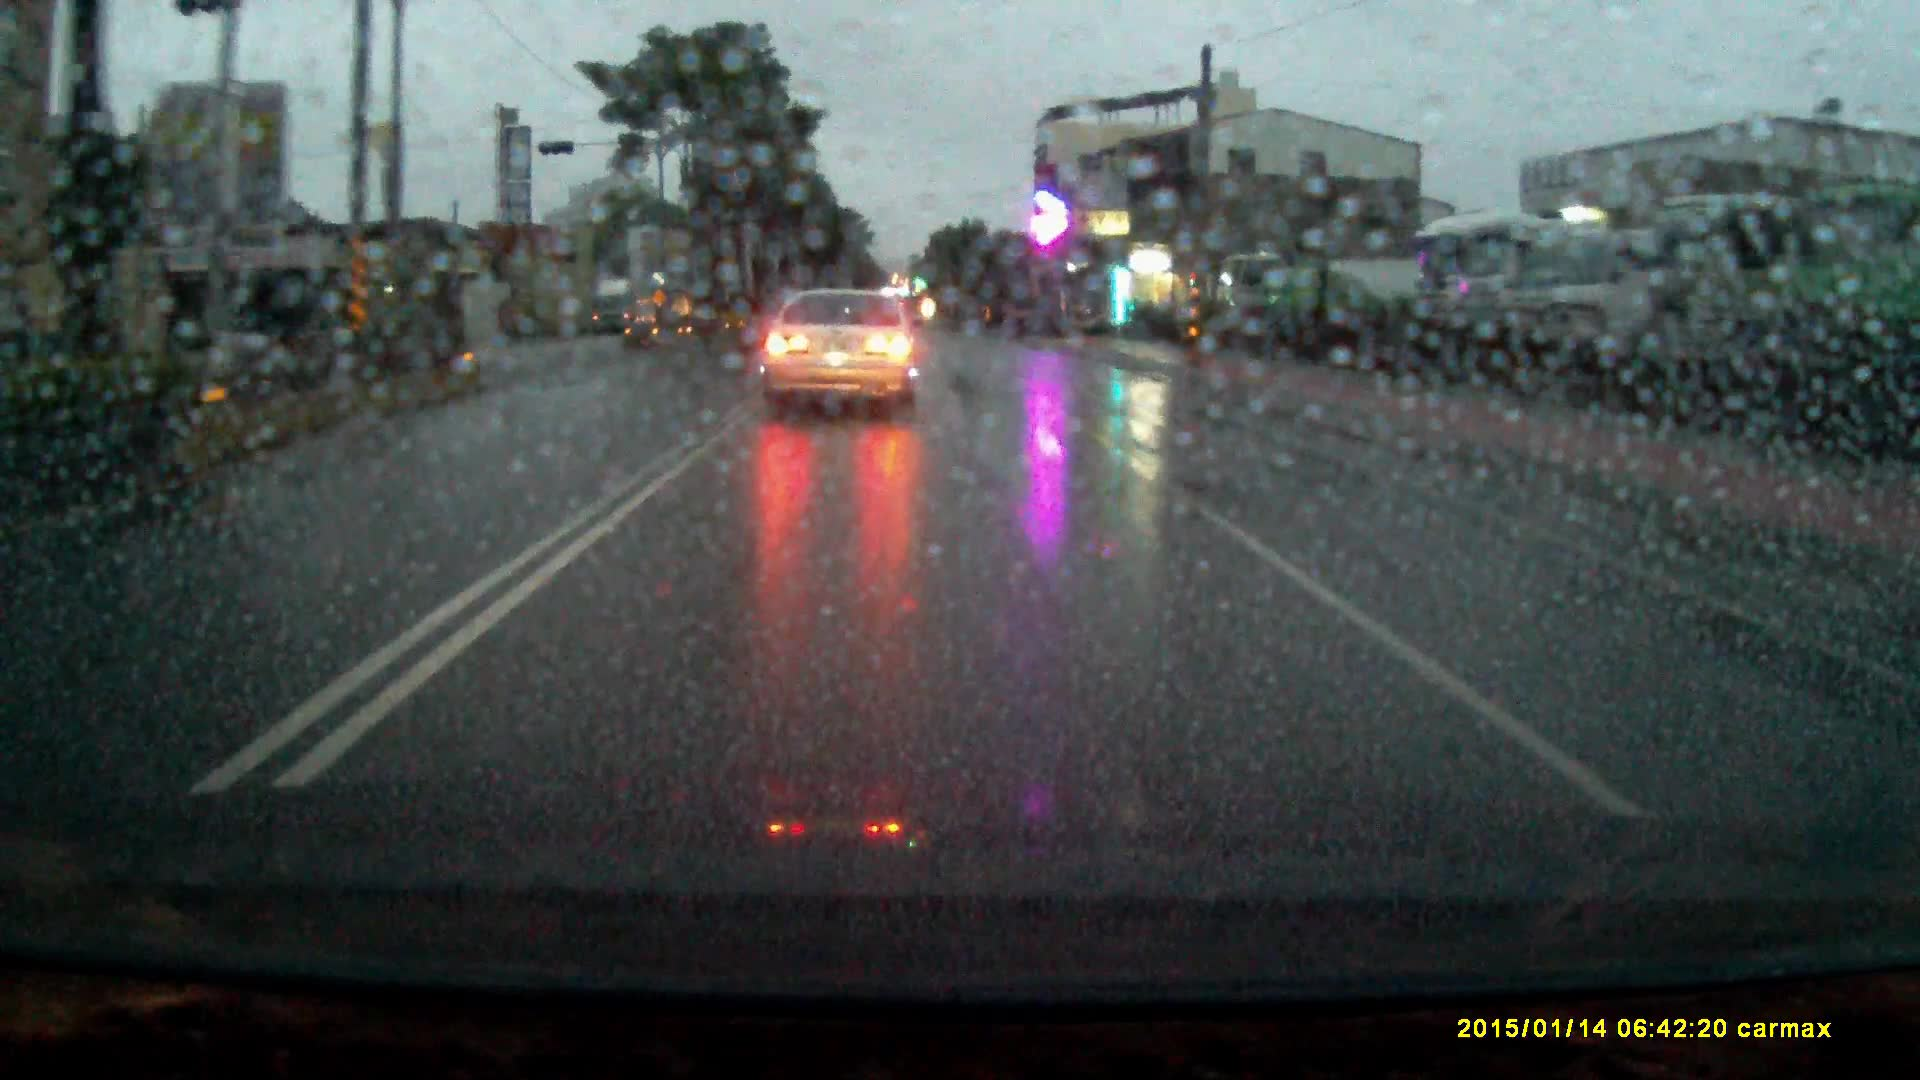vehicle: (1663, 189, 1815, 410), (1505, 223, 1664, 390), (760, 287, 923, 419), (1414, 216, 1520, 357), (1263, 258, 1423, 335), (1218, 251, 1288, 326), (591, 278, 654, 335)
